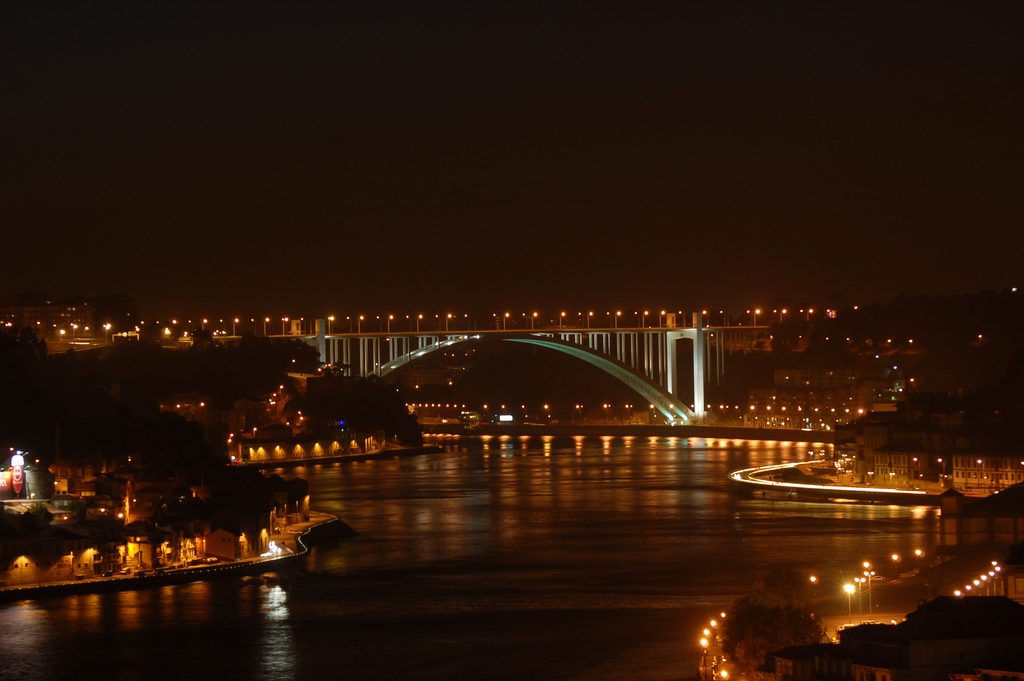arrabida: (260, 313, 780, 428)
